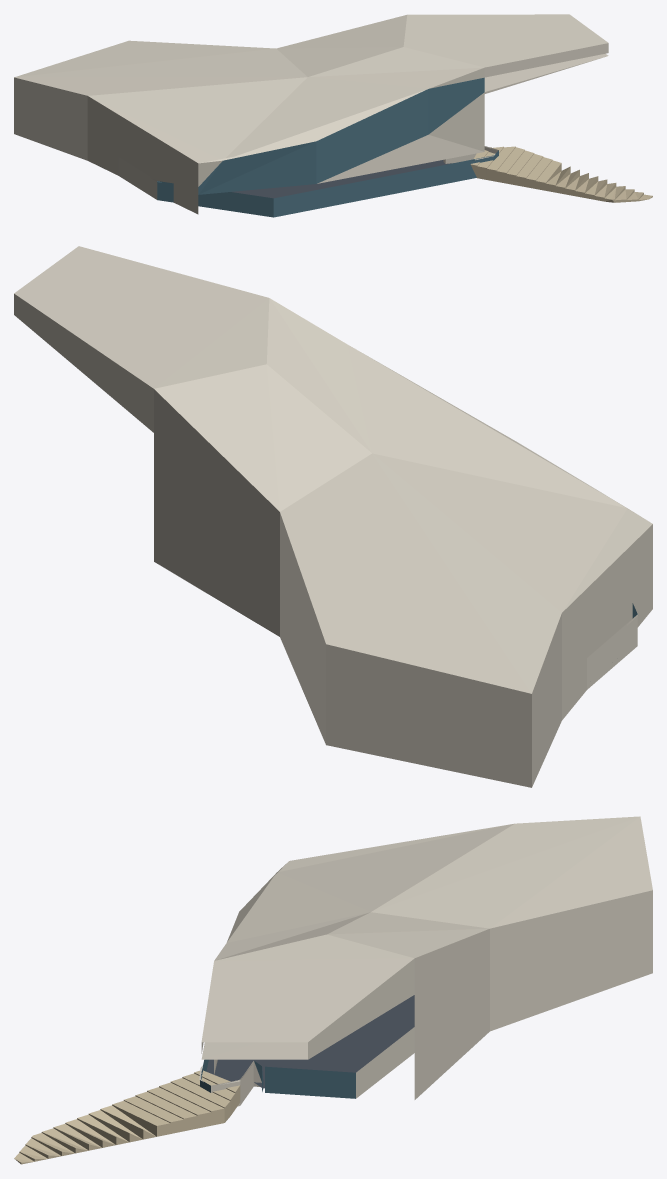
File: eye-filmmuseum.lod2.glb
3 views of the same model, one above another, from view 1: azimuth 30°, elevation 25°; view 2: azimuth 150°, elevation 25°; view 3: azimuth 270°, elevation 25° (orthographic). The views are drawn at different scales.
Parts seen in each view (by area): view 1: lod2; view 2: lod2; view 3: lod2.
Part boxes in pixels (x1,y1,x2,y2): lod2: (14, 14, 652, 217); lod2: (14, 246, 652, 787); lod2: (14, 816, 652, 1164).
Bounding box in the file's own units: 109 × 25 × 102.
